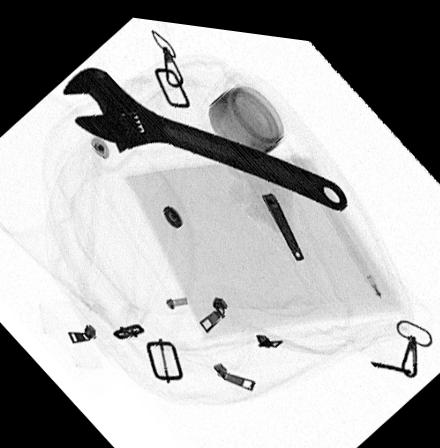Wrench: (58, 61, 349, 204)
